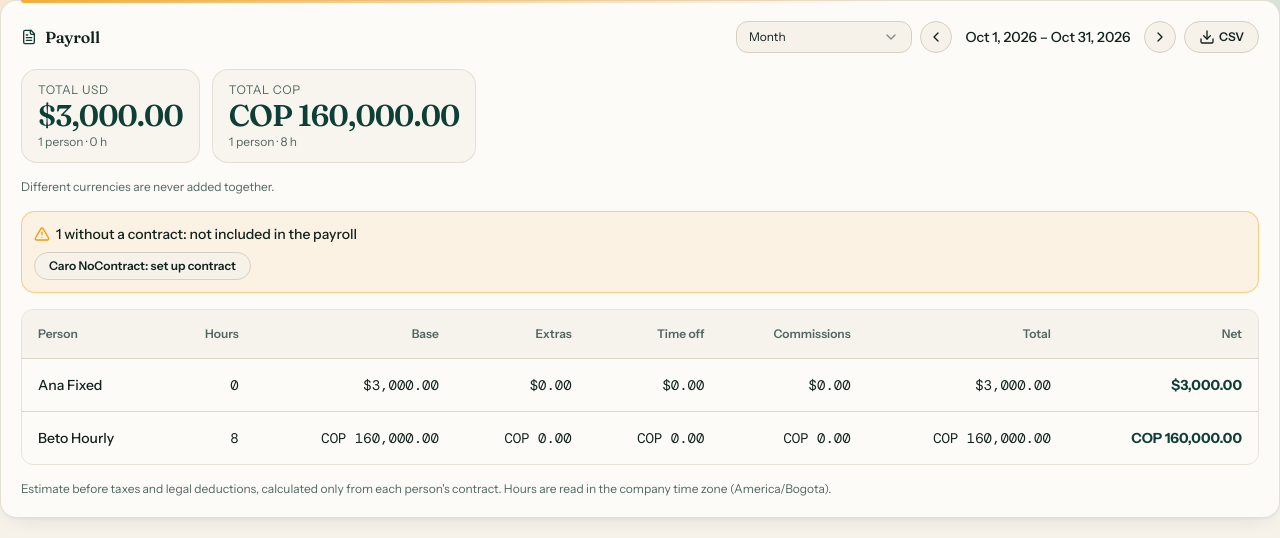
Test case: PayrollPanel › moves to the previous period and recalculates (September has no hours for Beto)
Click the button named "Previous period".
click(936, 37)  # box [920,21,952,53]
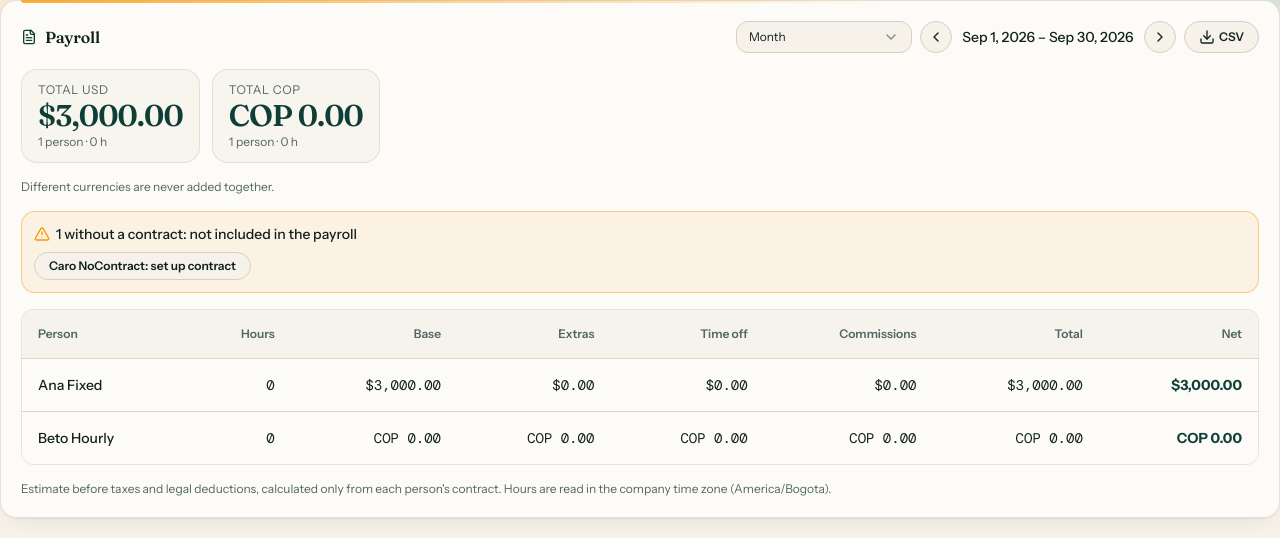
expect the element showing "Total COP COP 0.00 1 person · 0 h" is shown: met, box [212,69,380,163]
